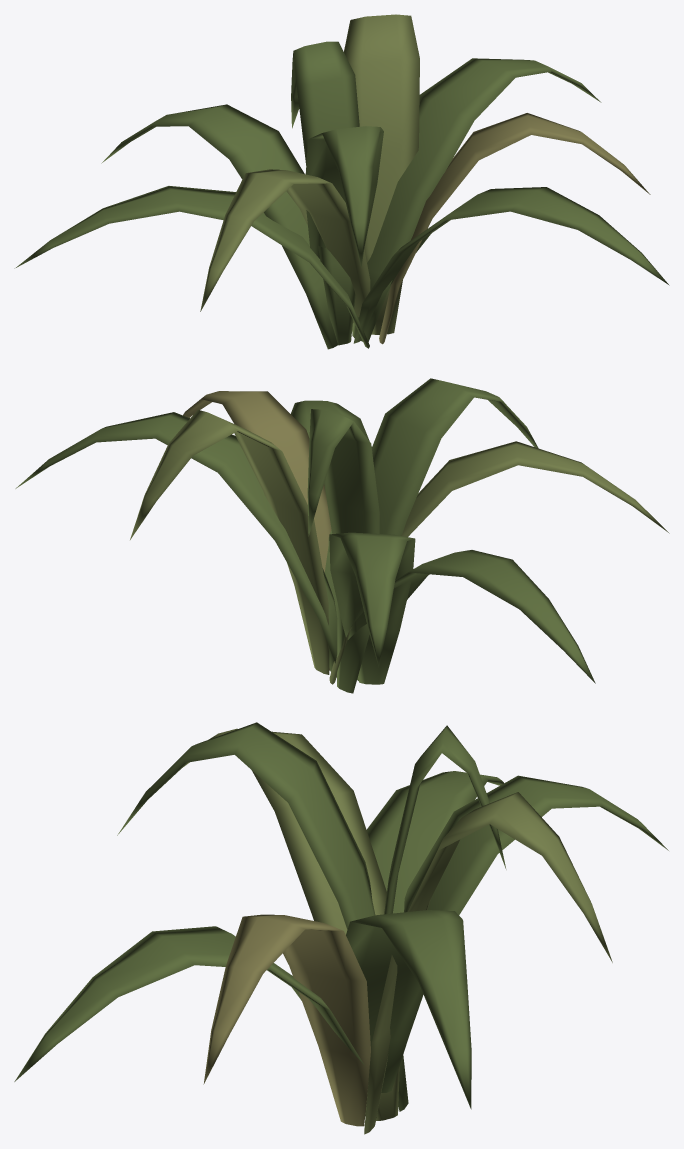
The model's file is city_planting_05_short_tuft.glb.
The picture shows the model from 3 angles, top to bottom: view 1: azimuth 30°, elevation 25°; view 2: azimuth 150°, elevation 25°; view 3: azimuth 270°, elevation 25°; orthographic projection. The views are drawn at different scales.
Parts seen in each view (by area): view 1: short_tuft_blades; view 2: short_tuft_blades; view 3: short_tuft_blades.
Boxes of the visible parts, <box> form: short_tuft_blades: <box>14,14,669,349</box>; short_tuft_blades: <box>15,378,669,693</box>; short_tuft_blades: <box>14,722,668,1134</box>.
Bounding box in the file's own units: 0.56 × 0.26 × 0.42.
